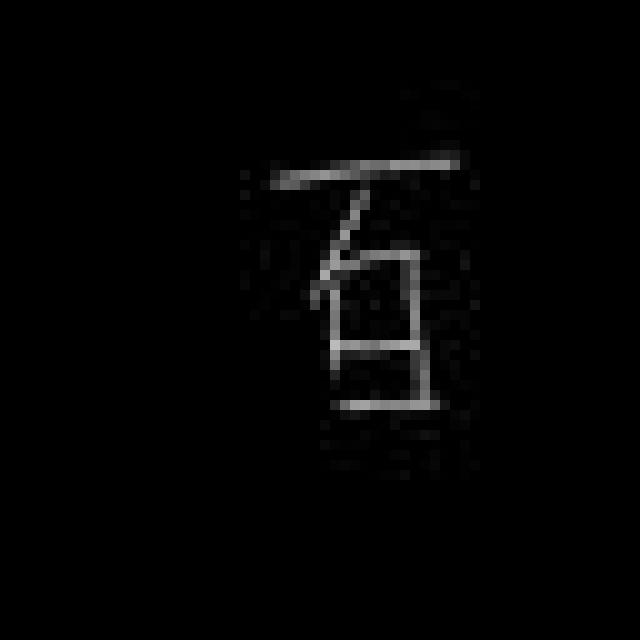100 -a hundred-: (263, 137, 471, 425)
